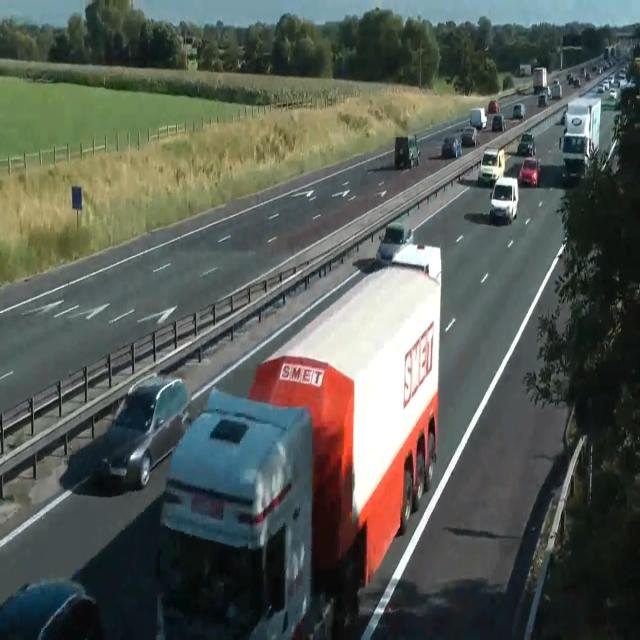bus: (0, 577, 102, 639), (376, 220, 414, 266), (441, 136, 461, 158), (517, 132, 535, 156), (461, 125, 479, 147), (512, 102, 526, 119), (488, 99, 499, 113), (537, 92, 547, 106), (572, 77, 580, 88)
car: (159, 233, 442, 634), (158, 385, 314, 637)
jeep: (100, 372, 190, 489), (489, 175, 518, 224), (560, 130, 588, 174), (394, 133, 420, 169), (479, 147, 505, 181), (518, 156, 540, 187), (491, 113, 506, 131)
minibus: (559, 96, 601, 180), (469, 106, 487, 130), (533, 67, 547, 93), (519, 64, 531, 76)
